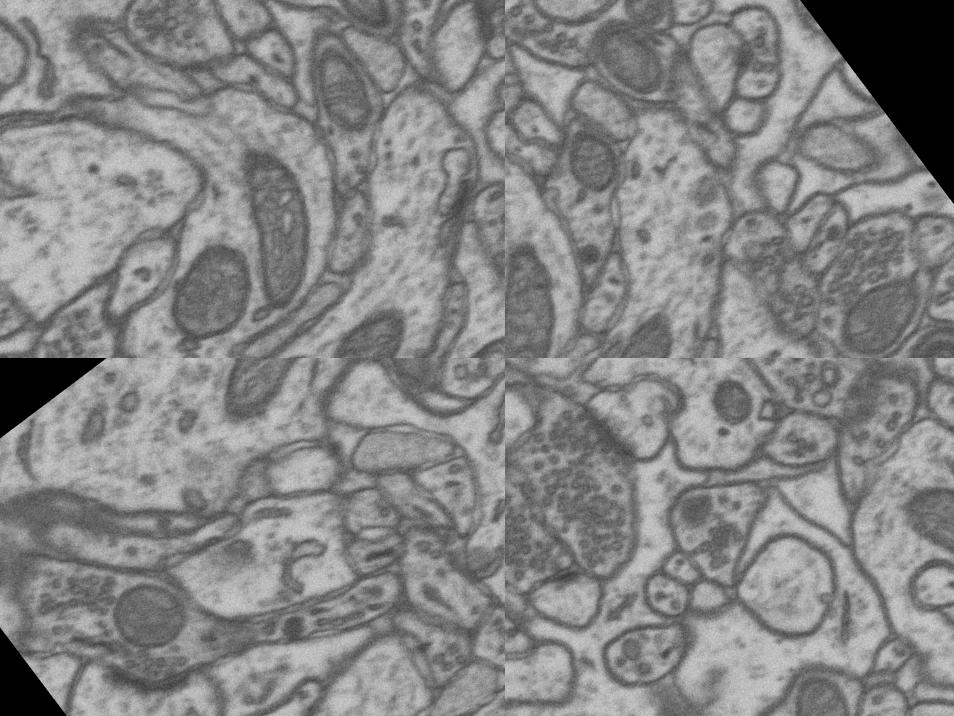mitochondria: (182, 130, 360, 318), (138, 218, 282, 358), (162, 358, 370, 444), (861, 429, 954, 604), (92, 558, 208, 673), (505, 226, 605, 358), (288, 30, 394, 144), (819, 262, 940, 358), (320, 358, 503, 416), (579, 5, 678, 110), (542, 109, 641, 210), (654, 468, 748, 562), (315, 291, 428, 358), (580, 297, 702, 358), (839, 358, 925, 430), (688, 358, 767, 436), (765, 674, 884, 716), (476, 518, 505, 640), (324, 0, 404, 44), (883, 319, 954, 358), (610, 0, 678, 38)
